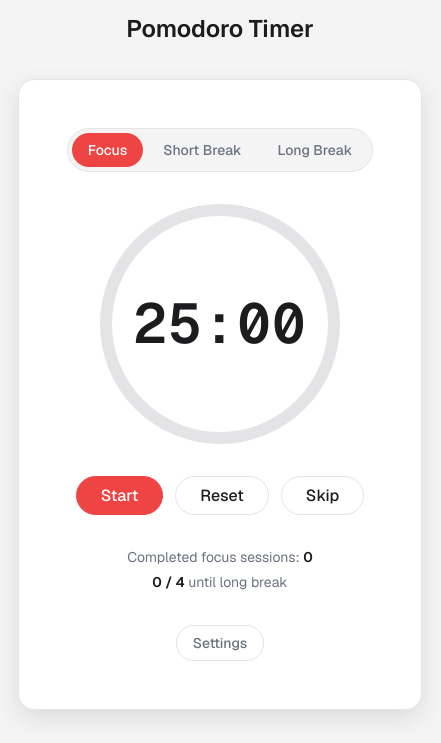
Test: SessionCounter & auto-start › increments the completed-focus counter after a focus session completes
The image size is (441, 743).
Click the button "Settings": (220, 642) [176,624,264,660]
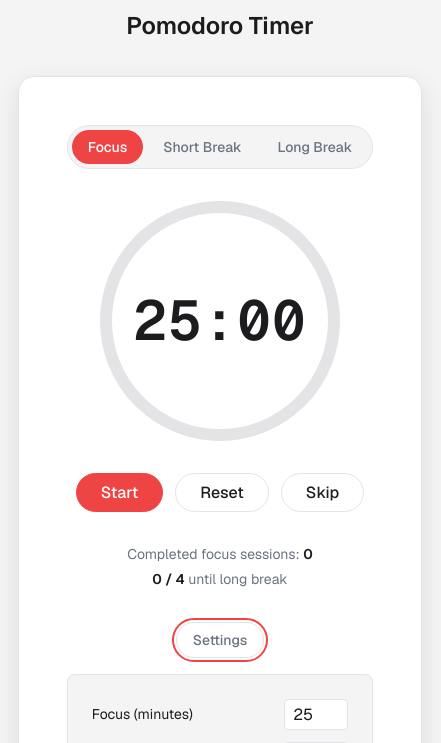
Replace the text in the number field labelled "Focus (minutes)" with "1": (316, 714) [284,699,348,730]
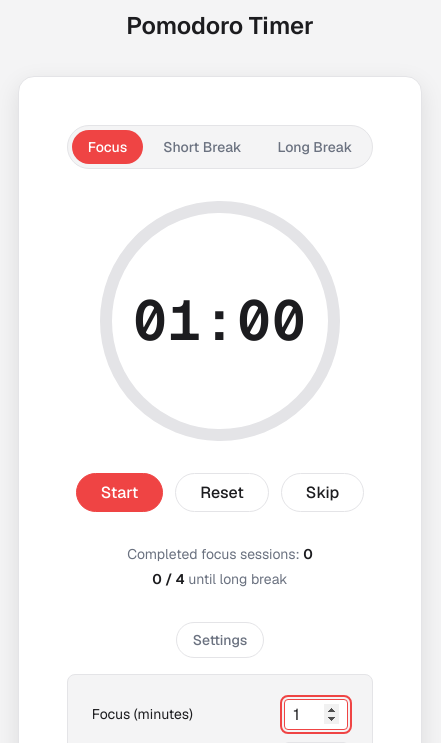
Check: the text "01:00" is shown, box [133,293,307,349]
Click the button "Start": (120, 492) [76,473,163,512]
Wait 60000 ms
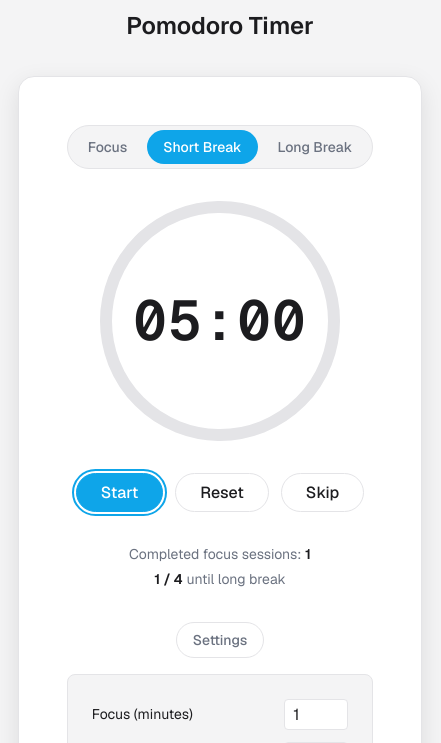
Check: the text "Completed focus sessions: 1" is shown, box [129,544,311,565]
